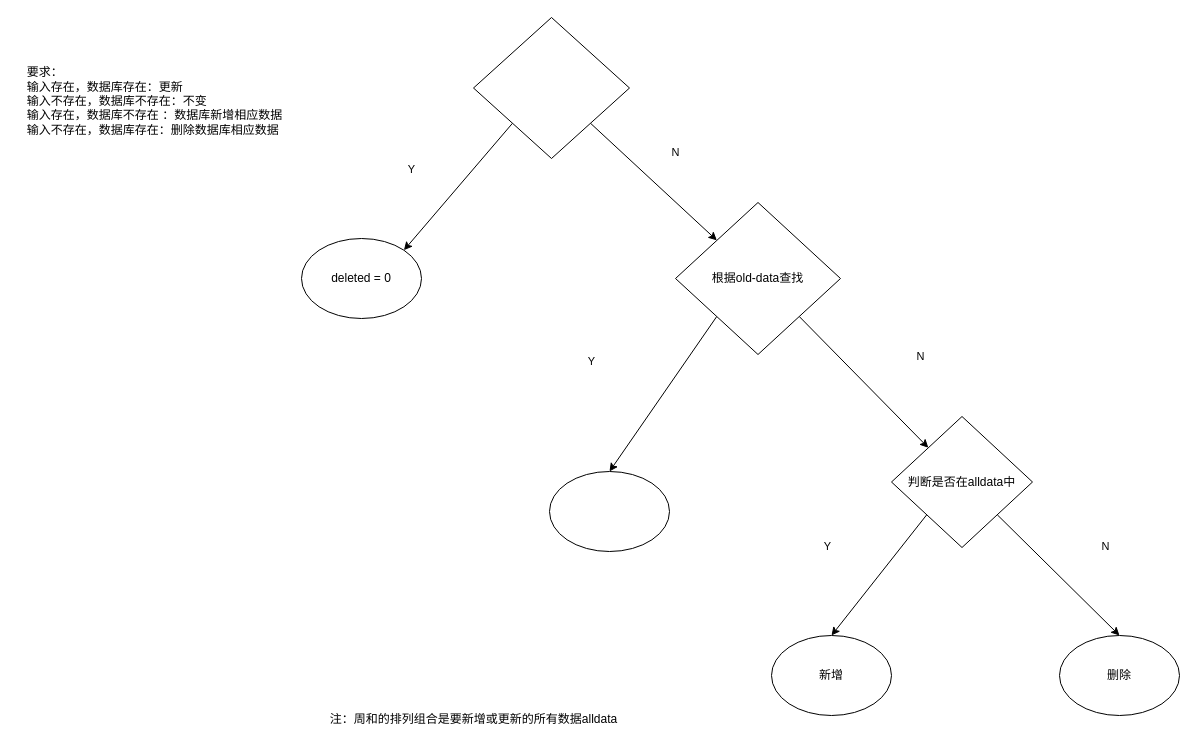
Some shapes in this 1197 by 750 pixel diagram are drawn without their labels. The centre of each missing label's shape, as x and y in pixels:
更新: (609,511)
根据new_data判断是否在数据库中: (551,87)
